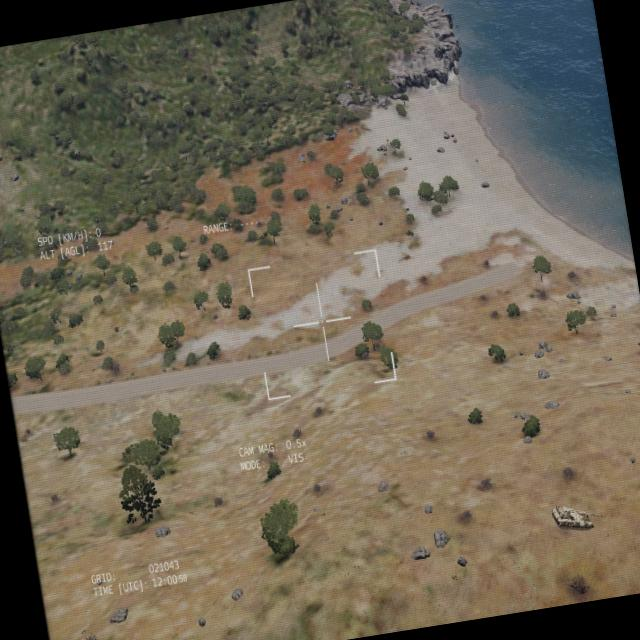tank: (550, 496, 608, 536)
